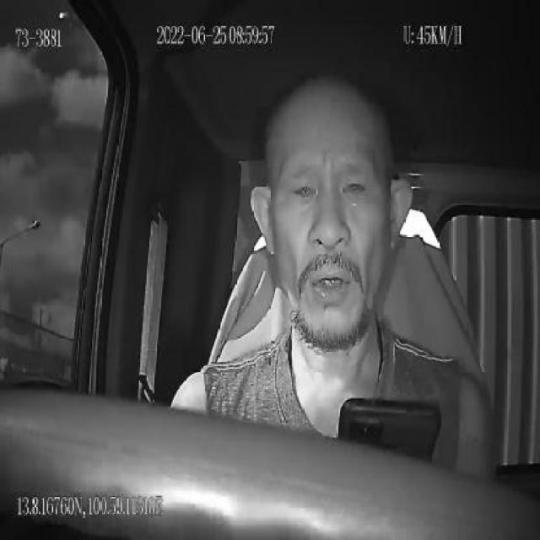phone: (335, 394, 443, 459)
